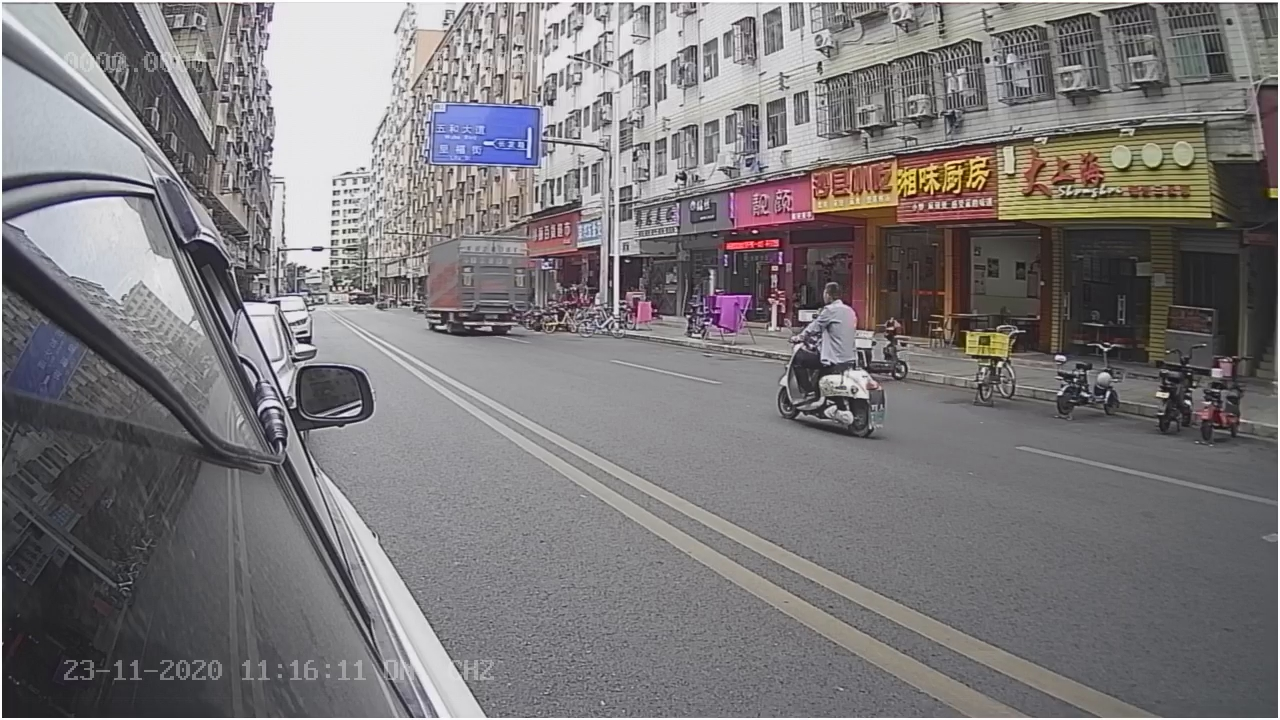person: (791, 283, 863, 368)
